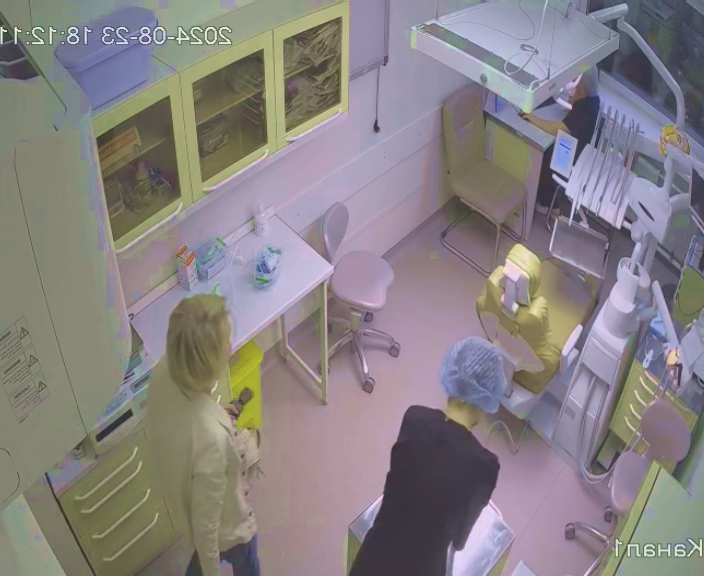Empty: (474, 244, 603, 410)
